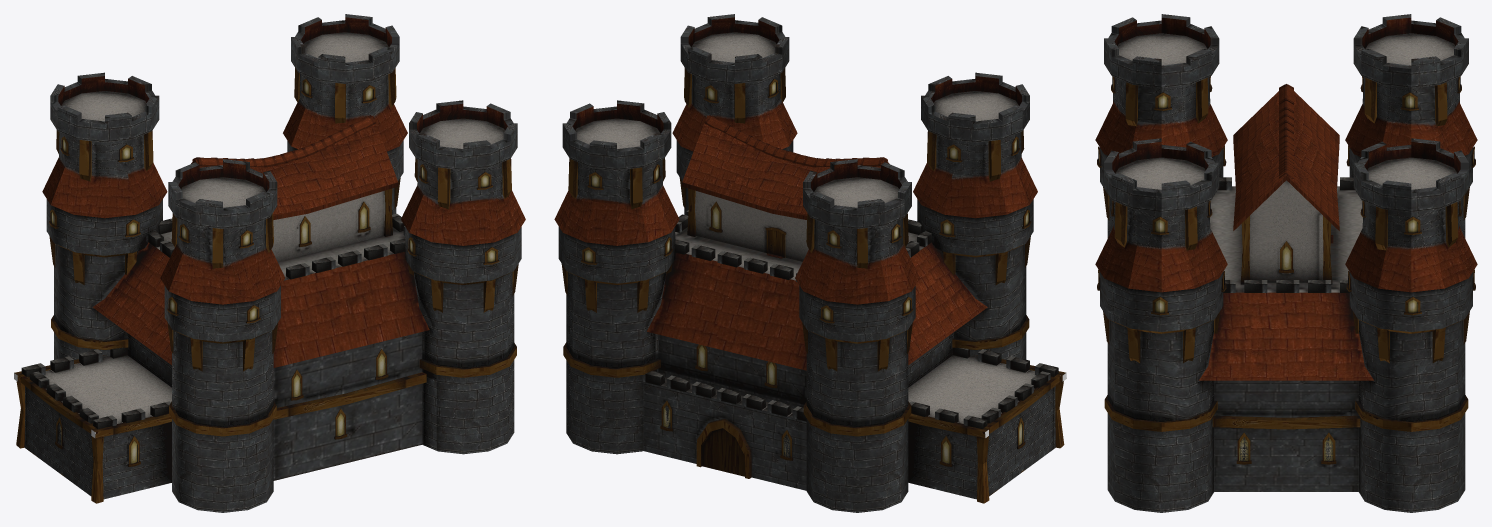
The model's file is castle.glb.
3 renders of one model, left to right at view 1: azimuth 30°, elevation 25°; view 2: azimuth 150°, elevation 25°; view 3: azimuth 270°, elevation 25°, orthographic. The views are drawn at different scales.
Visible parts, largest first — view 1: castle; view 2: castle; view 3: castle.
Part boxes in pixels (x1=…): castle: x1=14, y1=14, x2=525, y2=512; castle: x1=554, y1=14, x2=1066, y2=512; castle: x1=1095, y1=14, x2=1477, y2=512.
Bounding box in the file's own units: 42.22 × 30.92 × 32.68.
Materials: 1 (1 with a texture image).
